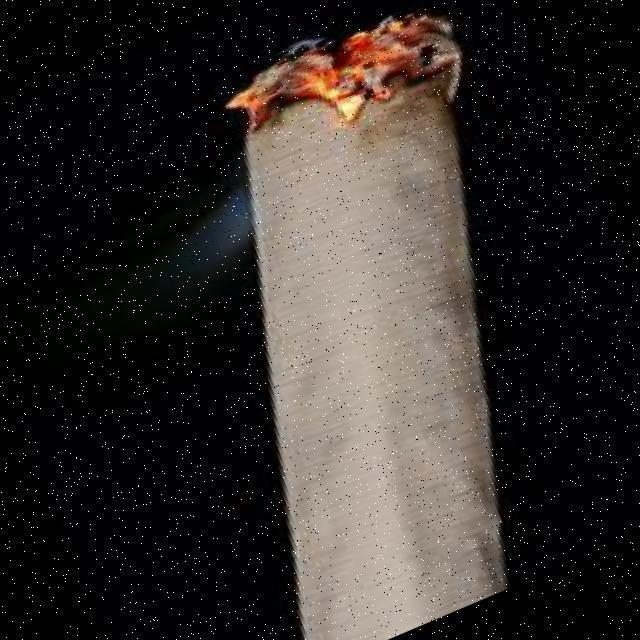cigarette: (134, 0, 640, 640)
